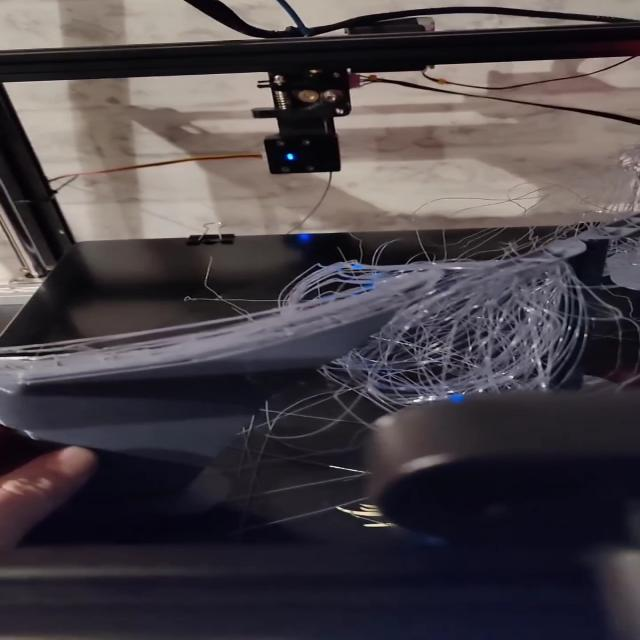spaghetti: (18, 236, 640, 424)
